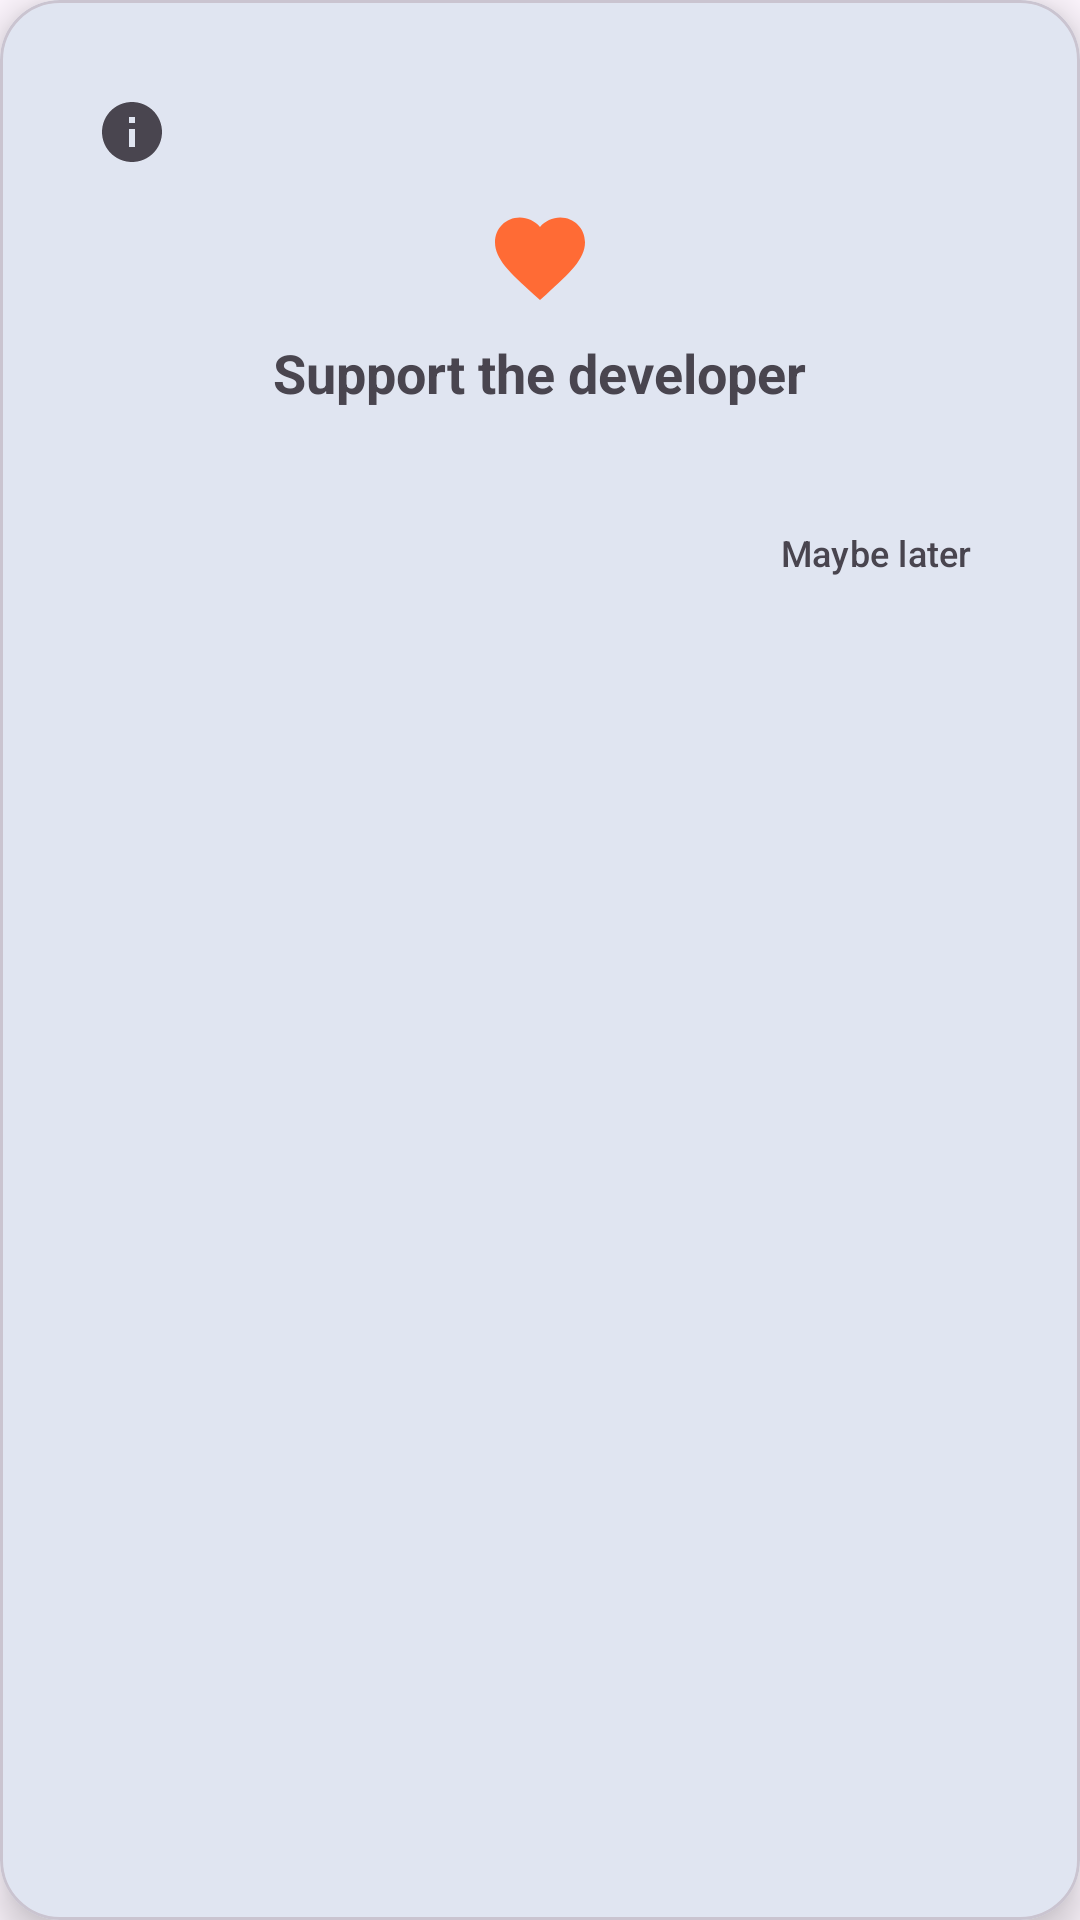

Where to tap for icons on this 1080×1920 app screen, as [x,y]:
Heart: [540,258]
Info: [132,132]
